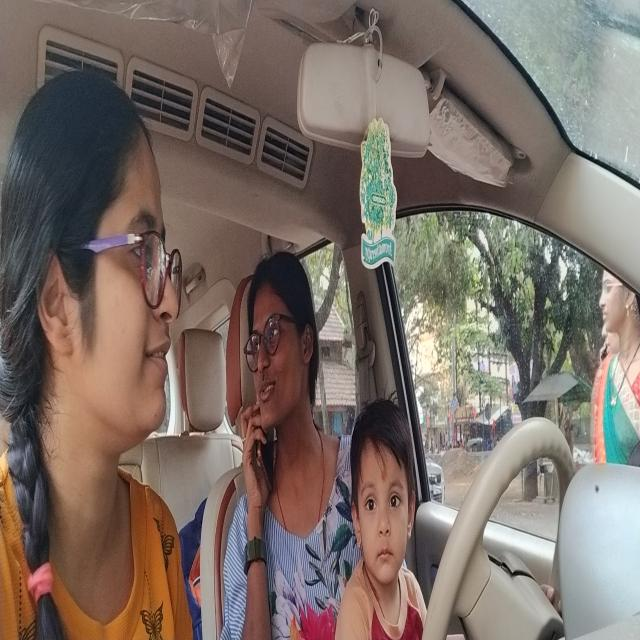LeftRight: (236, 245, 326, 496)
child: (345, 395, 418, 588)
mobile: (252, 386, 277, 494)
person: (1, 51, 187, 512)
